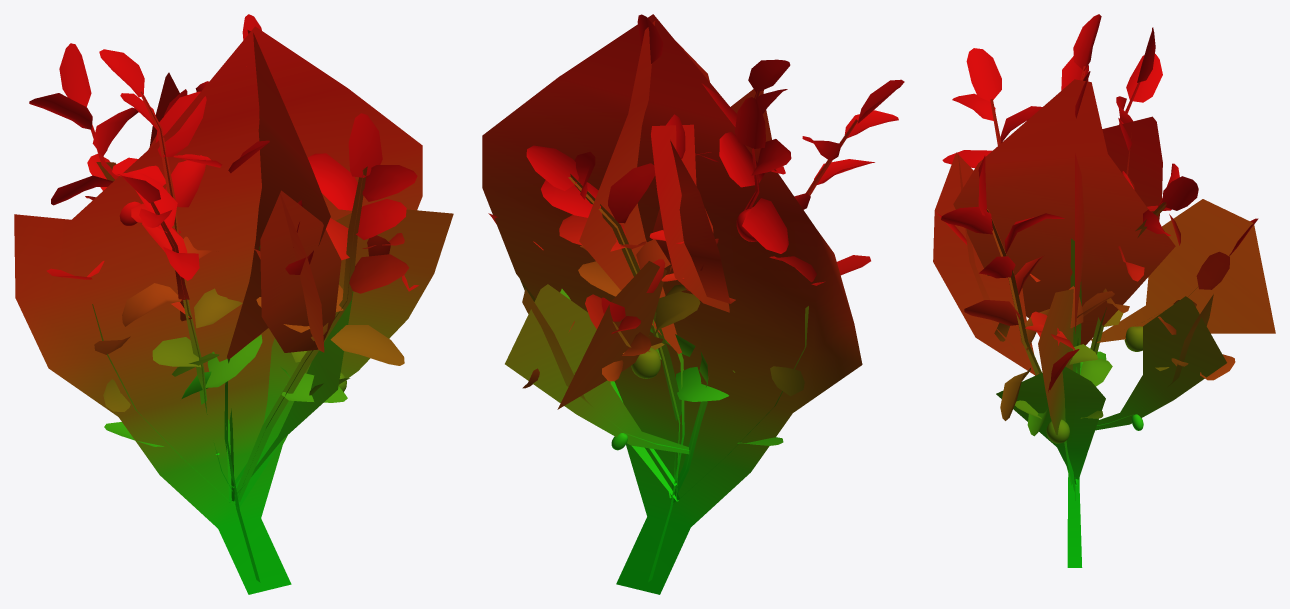
The model's file is Bilberry_LOD0_Var3_vldufeiha.fbx.
3 renders of one model, left to right at view 1: azimuth 30°, elevation 25°; view 2: azimuth 150°, elevation 25°; view 3: azimuth 270°, elevation 25°, orthographic. The views are drawn at different scales.
Visible parts, largest first — view 1: _0syx_Var3_LOD0; view 2: _0syx_Var3_LOD0; view 3: _0syx_Var3_LOD0.
Part boxes in pixels (x1,y1,x2,y2): _0syx_Var3_LOD0: (14,14,453,594); _0syx_Var3_LOD0: (482,14,904,594); _0syx_Var3_LOD0: (933,14,1275,567).
Size of the model in its own units: 11.37 by 15.7 by 9.58.
